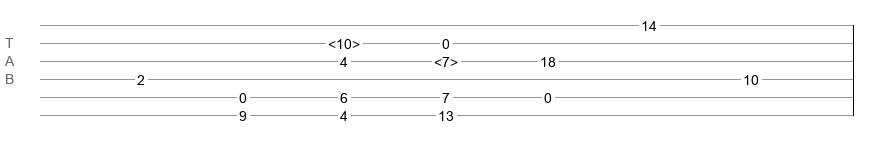0: (239, 90, 247, 100), (442, 36, 450, 46), (544, 90, 552, 100)
10: (743, 72, 759, 82)
13: (438, 108, 454, 118)
14: (641, 18, 657, 28)
18: (540, 54, 556, 64)
2: (137, 72, 145, 82)
4: (340, 108, 348, 118), (340, 54, 348, 64)
6: (340, 90, 348, 100)
7: (442, 90, 450, 100)
9: (239, 108, 247, 118)
harmonic: (328, 36, 360, 46), (434, 54, 458, 64)
